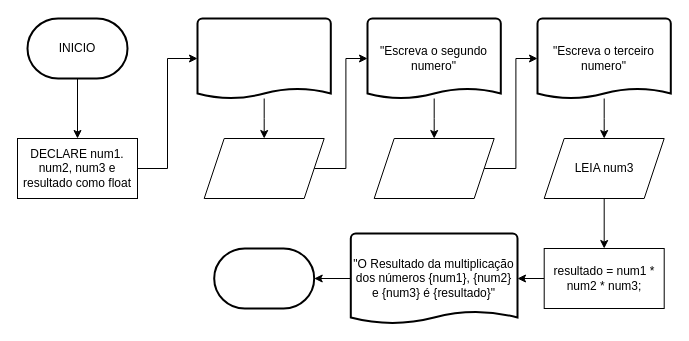
Some shapes in this 689 by 341 pixel diagram are drawn without their labels. The shapes that lost their labels are listed below. From the top down, each one's centre as x and y in pixels, then its label:
the point at 263,58: "Escreva o primeiro numero"
the point at 263,168: LEIA num1
the point at 433,168: LEIA num2
the point at 264,278: FIM
